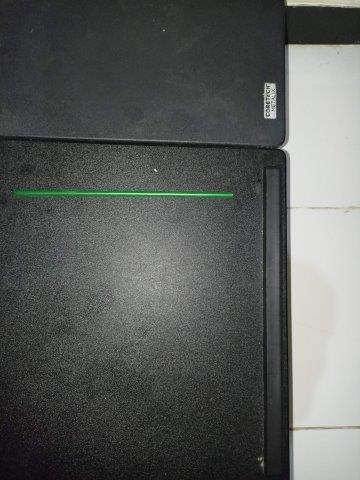sedotan: (14, 189, 233, 200)
